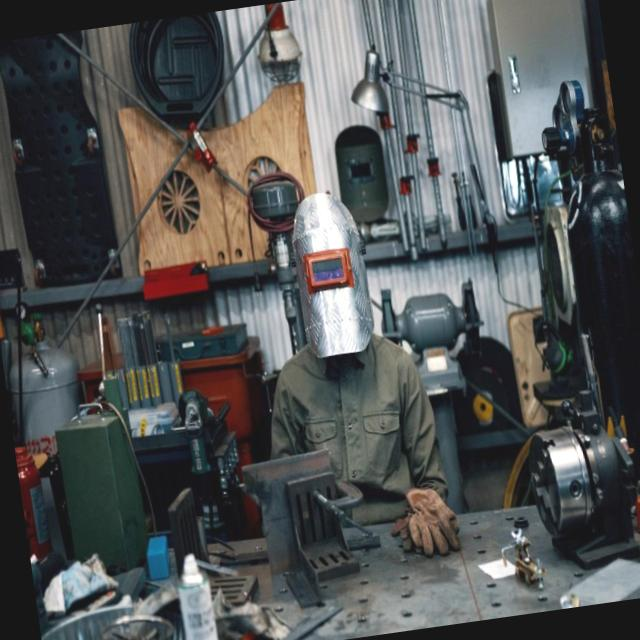no-vest: (280, 346, 422, 508)
